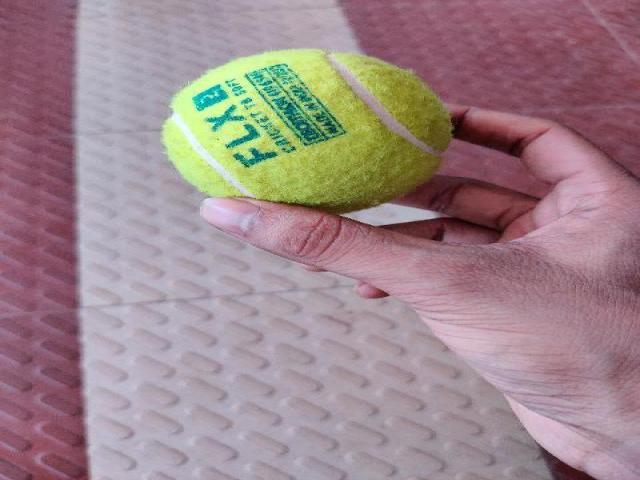tennis-ball: (160, 47, 453, 215)
